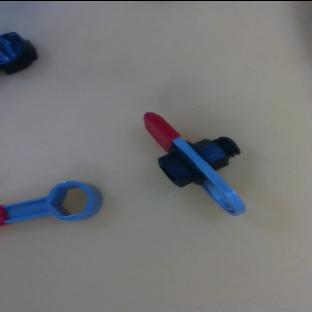part_1_good: (122, 95, 273, 220)
part_3_bad: (1, 31, 38, 74)
part_3_good: (0, 178, 104, 225)
